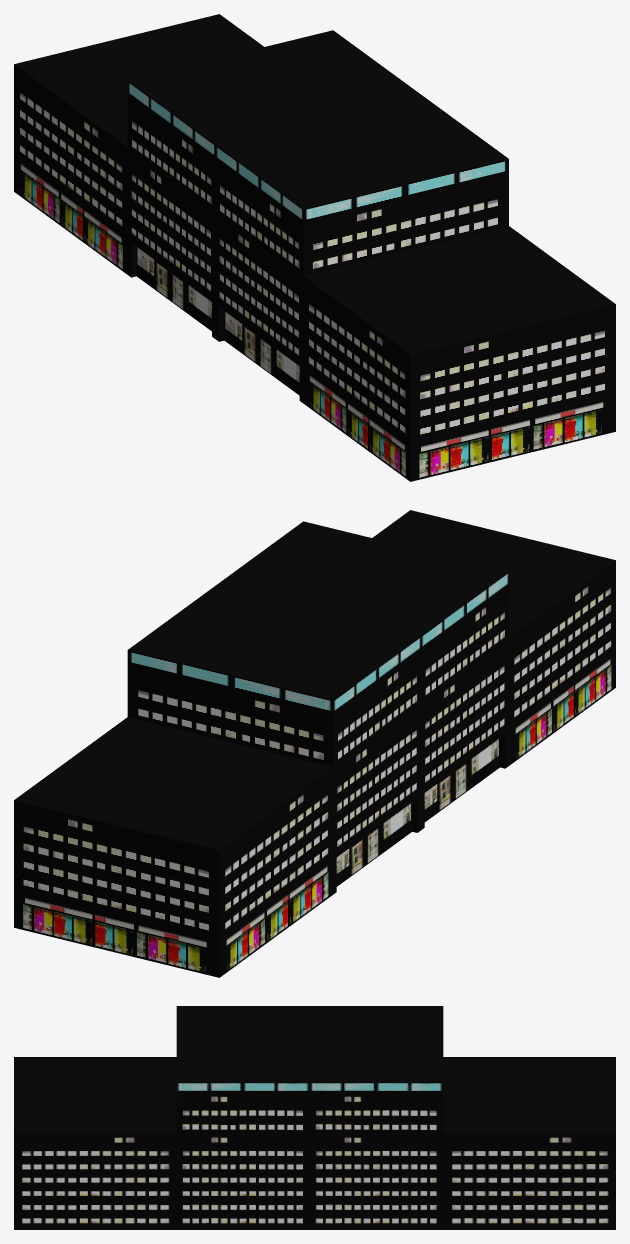
File: building16.FBX
3 renders of one model, top to bottom at view 1: azimuth 30°, elevation 25°; view 2: azimuth 150°, elevation 25°; view 3: azimuth 270°, elevation 25°, orthographic. The views are drawn at different scales.
Visible parts, largest first — view 1: Box001; view 2: Box001; view 3: Box001.
Part boxes in pixels (box(x1,y1,x2,y2)): Box001: box(14, 14, 615, 481); Box001: box(14, 510, 615, 977); Box001: box(14, 1006, 615, 1229).
Size of the model in its own units: 103 by 93.1 by 344.
